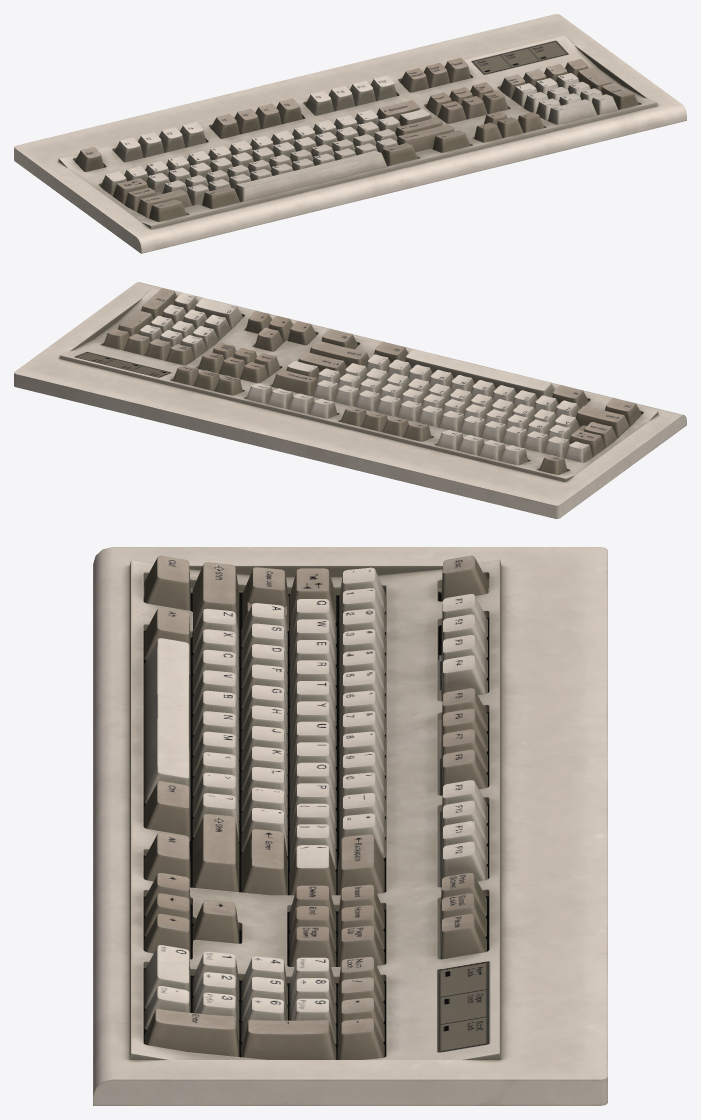
File: old_keyboard.glb
3 renders of one model, top to bottom at view 1: azimuth 30°, elevation 25°; view 2: azimuth 150°, elevation 25°; view 3: azimuth 270°, elevation 25°, orthographic. The views are drawn at different scales.
Visible parts, largest first — view 1: Plane.033, Plane.032, Plane.030, Plane.017, Plane.028, Plane.029, Plane.023, Plane.026, Plane.025, Plane.024, Plane.018, Plane.081 (+27 smaller); view 2: Plane.033, Plane.032, Plane.030, Plane.029, Plane.028, Plane.022, Plane.017, Plane.018, Plane.020, Plane.026, Plane.025, Plane.019 (+46 smaller); view 3: Plane.033, Plane.032, Plane.030, Plane.019, Plane.018, Plane.028, Plane.020, Plane.022, Plane.029, Plane.024, Plane.026, Plane.017 (+91 smaller).
Boxes of the visible parts, box(x1,y1,x2,y2) form: Plane.033: box(14, 14, 686, 253); Plane.032: box(58, 35, 657, 229); Plane.030: box(235, 150, 386, 202); Plane.017: box(548, 99, 597, 124); Plane.028: box(397, 124, 454, 152); Plane.029: box(137, 189, 192, 218); Plane.023: box(432, 130, 470, 152); Plane.026: box(149, 199, 186, 221); Plane.025: box(202, 186, 239, 208); Plane.024: box(382, 143, 417, 166); Plane.018: box(601, 83, 638, 109); Plane.081: box(210, 114, 239, 138); Plane.033: box(14, 282, 686, 518); Plane.032: box(59, 288, 658, 482); Plane.030: box(405, 349, 554, 398); Plane.029: box(576, 405, 629, 438); Plane.028: box(309, 340, 369, 367); Plane.022: box(271, 370, 317, 396); Plane.017: box(195, 298, 242, 329); Plane.018: box(141, 288, 176, 319); Plane.020: box(298, 351, 346, 376); Plane.026: box(605, 398, 641, 426); Plane.025: box(552, 385, 588, 409); Plane.019: box(118, 310, 153, 336); Plane.033: box(93, 547, 607, 1105); Plane.032: box(129, 559, 501, 1059); Plane.030: box(144, 638, 190, 810); Plane.019: box(241, 1019, 336, 1059); Plane.018: box(144, 1008, 239, 1056); Plane.028: box(192, 814, 239, 892); Plane.020: box(241, 829, 287, 895); Plane.022: box(337, 834, 384, 895); Plane.029: box(192, 562, 239, 636); Plane.024: box(144, 781, 190, 841); Plane.026: box(144, 555, 190, 610); Plane.017: box(144, 945, 190, 1012).
Bounding box in the file's own units: 341 × 15.33 × 139.
Materials: 1 (1 with a texture image).
